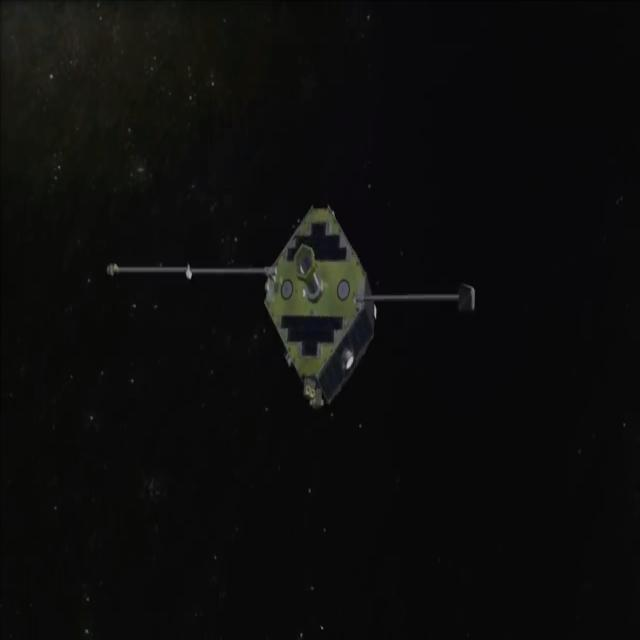medium_debris: (100, 189, 474, 430)
